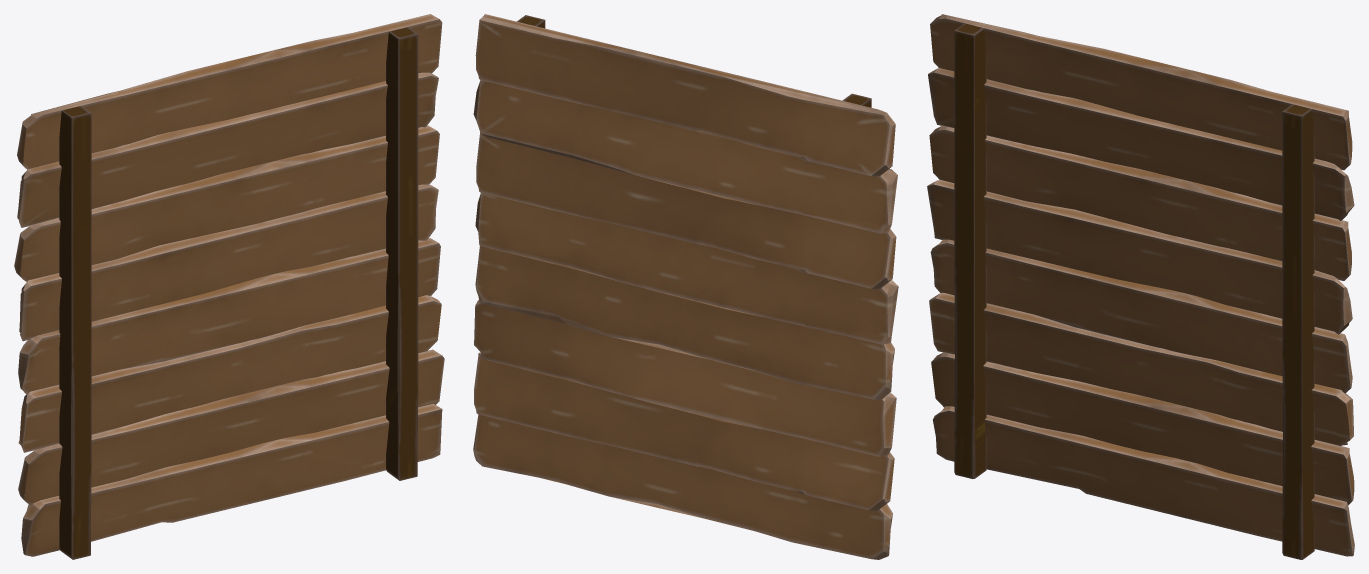
File: WoodWall.fbx
3 views of the same model, side by side, from view 1: azimuth 30°, elevation 25°; view 2: azimuth 150°, elevation 25°; view 3: azimuth 330°, elevation 25° (orthographic).
Visible parts, largest first — view 1: WoodWall.final; view 2: WoodWall.final; view 3: WoodWall.final.
Boxes of the visible parts, x1,y1,x2,y2 form: WoodWall.final: [14, 14, 444, 559]; WoodWall.final: [473, 14, 898, 559]; WoodWall.final: [927, 14, 1354, 559].
Bounding box in the file's own units: 98.47 × 100 × 10.08.
1 material, 1 textured.
